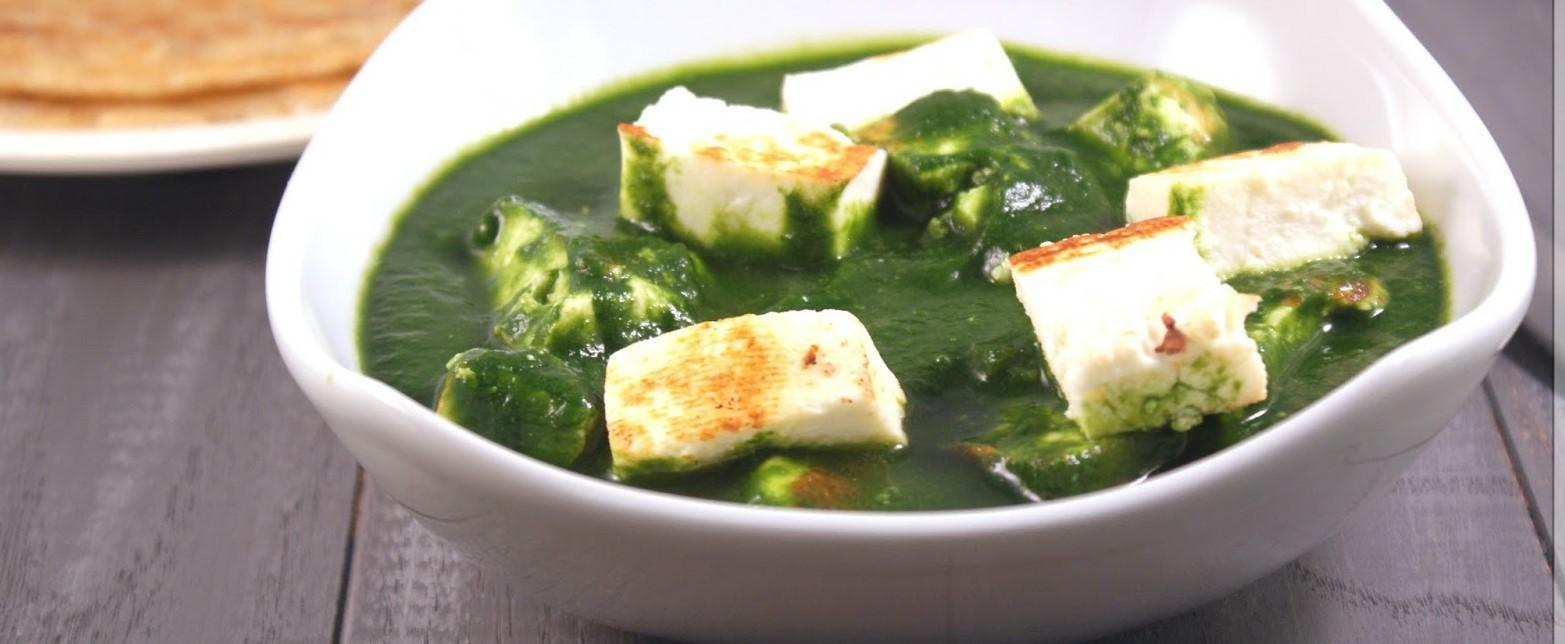PalakPaneer: (359, 26, 1449, 503)
